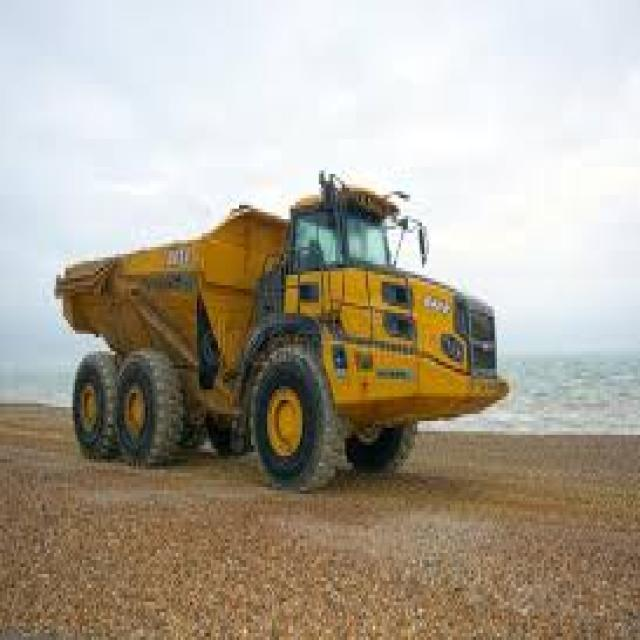dump_truck: (56, 153, 525, 484)
